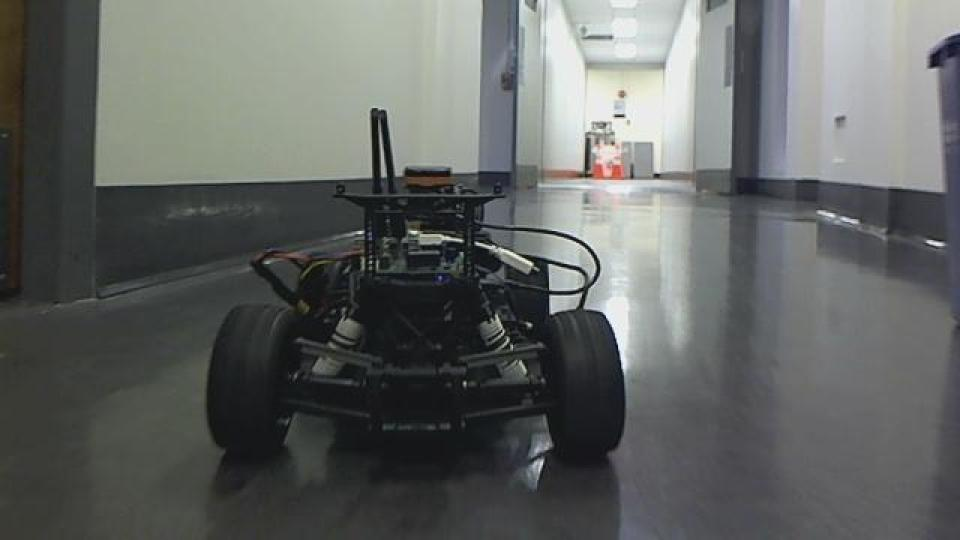car: (201, 105, 629, 468)
